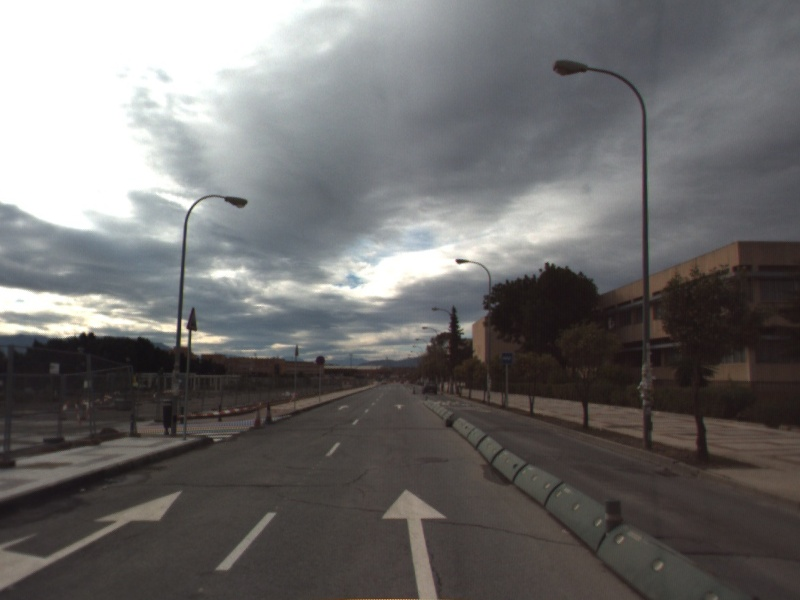STRAIGHT: (380, 486, 450, 600), (336, 403, 352, 412), (392, 402, 407, 411)
STRAIGHT_LEFT: (1, 488, 186, 591)
